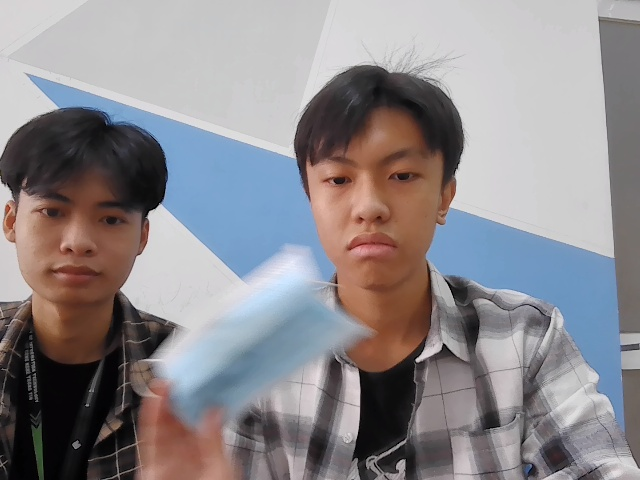human: (303, 52, 459, 295), (2, 99, 172, 304)
mask: (147, 252, 367, 420)
